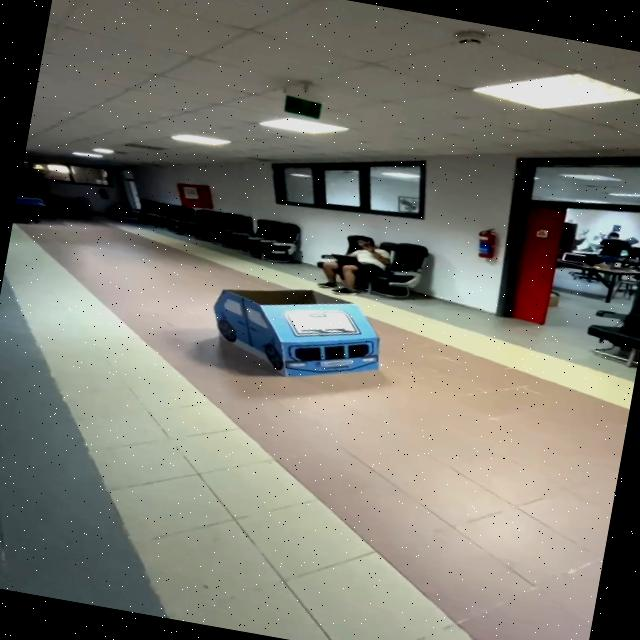blue_car: (187, 264, 418, 405)
